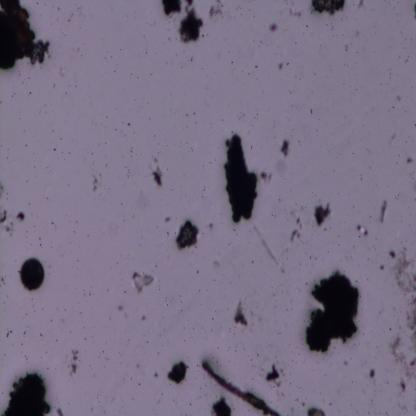Background material: (305, 270, 361, 353), (202, 359, 282, 415), (389, 244, 416, 390), (0, 0, 52, 73), (0, 372, 53, 416), (181, 8, 204, 44), (176, 222, 200, 249), (308, 0, 346, 16), (131, 271, 155, 295), (166, 359, 188, 383), (288, 213, 304, 246), (312, 202, 333, 227), (210, 394, 232, 415), (233, 300, 249, 328), (160, 0, 184, 17), (264, 366, 282, 387), (0, 212, 15, 236), (67, 348, 79, 377), (152, 164, 165, 190), (208, 0, 224, 20), (378, 198, 388, 224), (90, 173, 102, 191), (281, 139, 291, 159), (306, 406, 326, 415), (258, 170, 273, 182), (356, 224, 369, 237), (402, 154, 416, 166), (341, 42, 351, 54), (16, 211, 26, 222), (275, 59, 284, 71), (269, 22, 279, 32), (369, 368, 376, 380), (152, 372, 161, 381), (185, 0, 196, 7), (116, 304, 124, 312)
Diatom: (20, 257, 46, 292)
Fragment: (223, 132, 259, 224)
